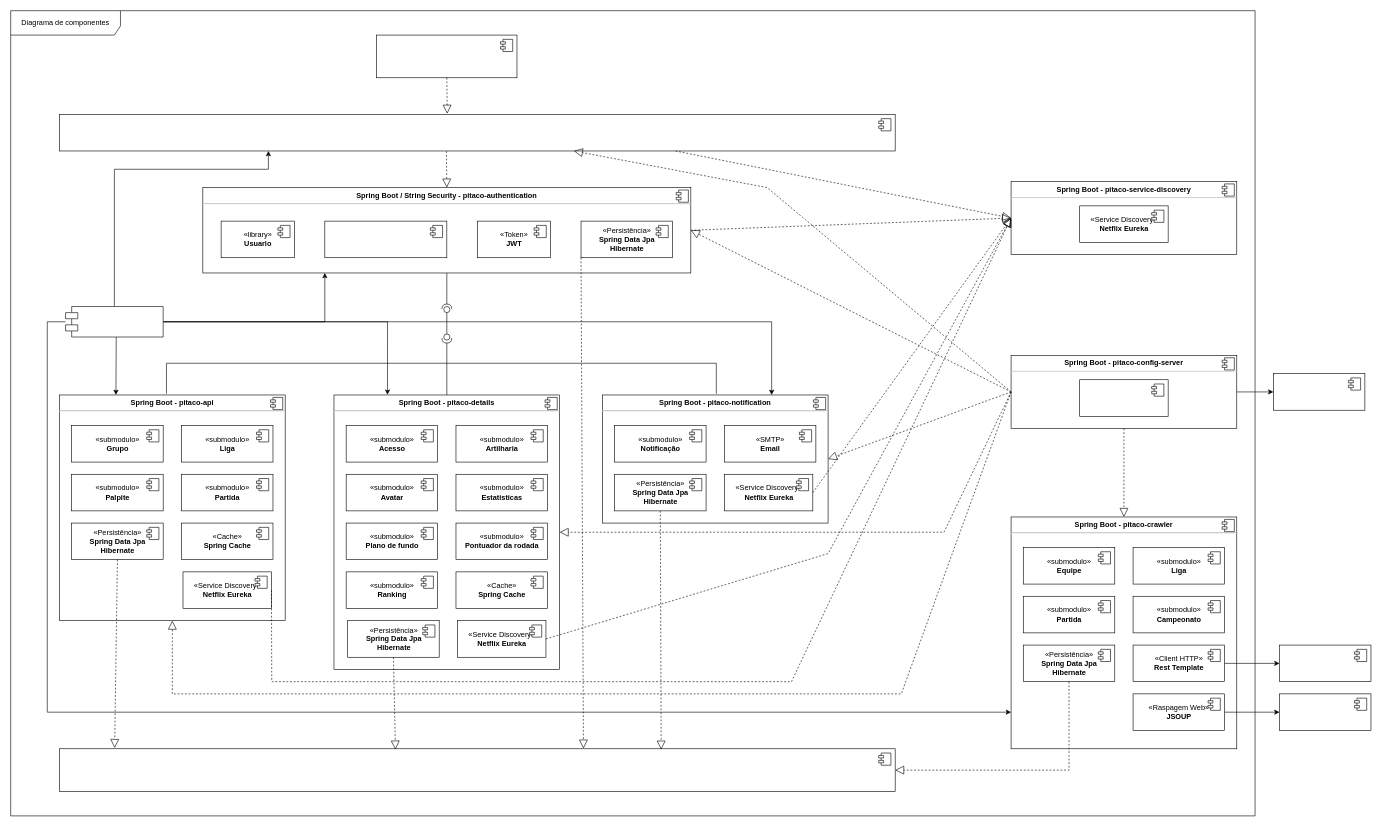
Image size: 1382x827. Some labels were removed from this diagram. The centre of each missing label's shape, as x and y in pixels:
"Module pitaco-utilities" belongs at point 114,321.
"«Angular 8+ / typeScript» pitaco-web - SPA" belongs at point 446,56.
"«Autenticação / Autorização» Spring Security" belongs at point 385,239.
"«Banco de dados» MySql" belongs at point 477,769.
"«Config Server» Cloud Config Server" belongs at point 1123,397.
"«Externo» Github" belongs at point 1319,391.
"«Externo» Globo Esporte" belongs at point 1325,663.
"«Externo» Google" belongs at point 1325,711.
"«Spring Cloud Gateway» pitaco-gateway" belongs at point 477,132.
